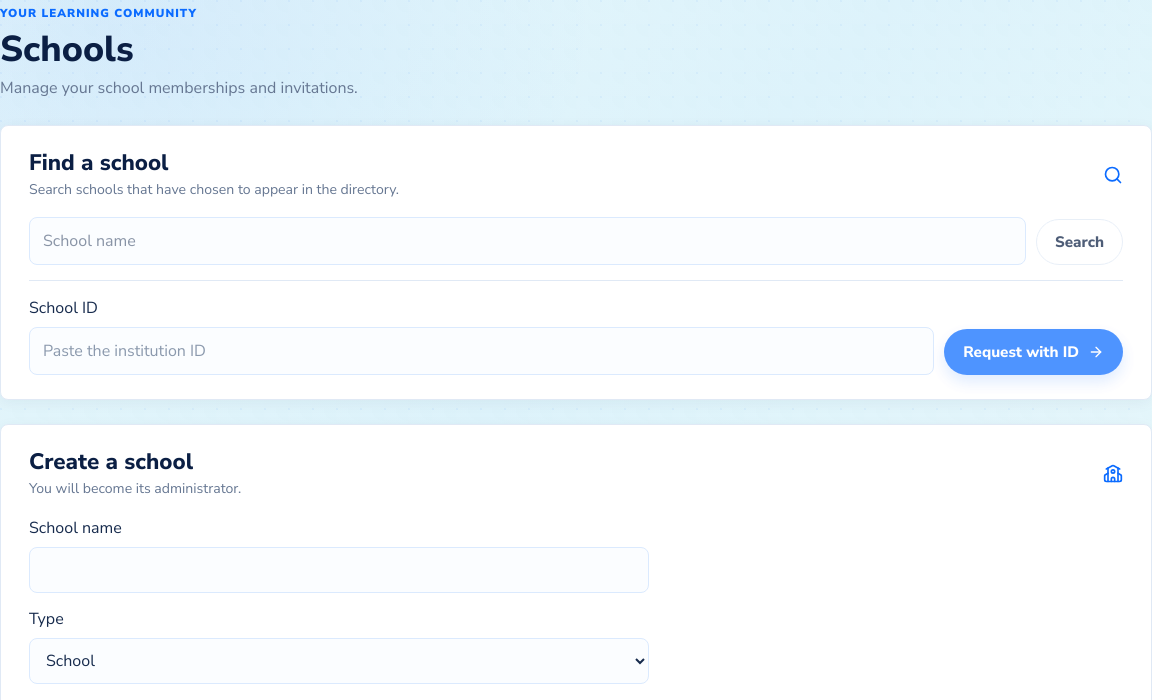
it: SchoolsPage › creates a school with opt-in listing and confirms the caller is its administrator
Type "Northside School" into the field labelled "School name" below "You will become its administrator." at (339, 570), box [29,548,649,594]
(page scrolled)
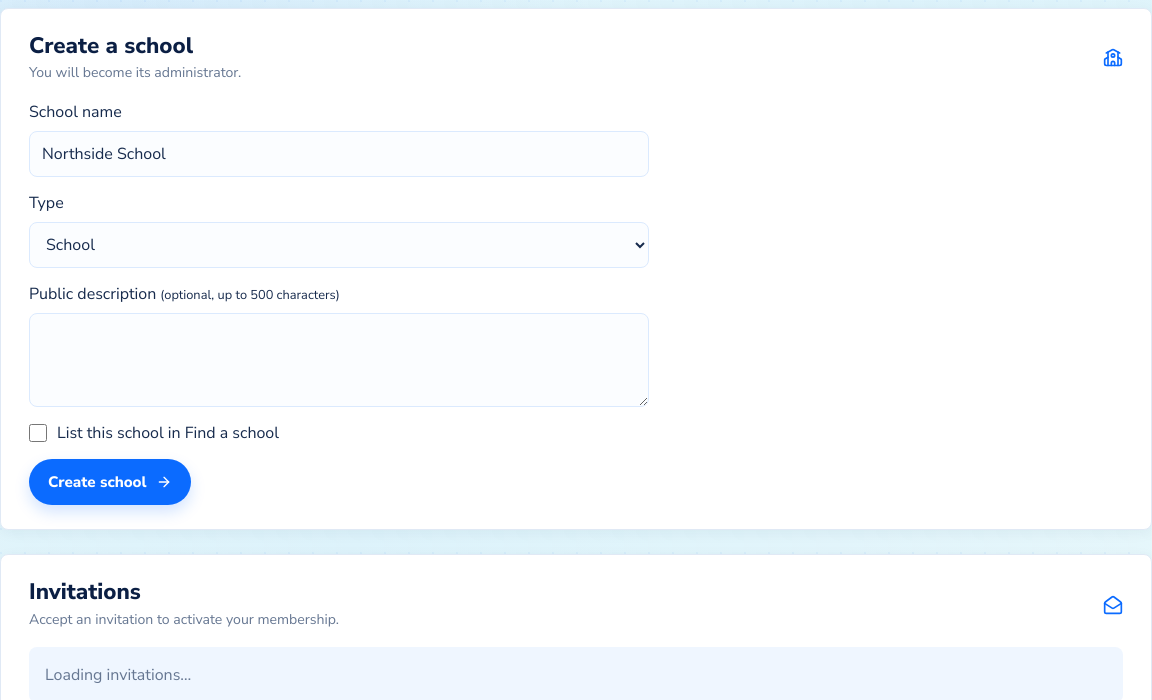
Type "Open to everyone" into the text box labelled "Public description (optional, up to 500 characters)" at (339, 360), box [29,314,649,408]
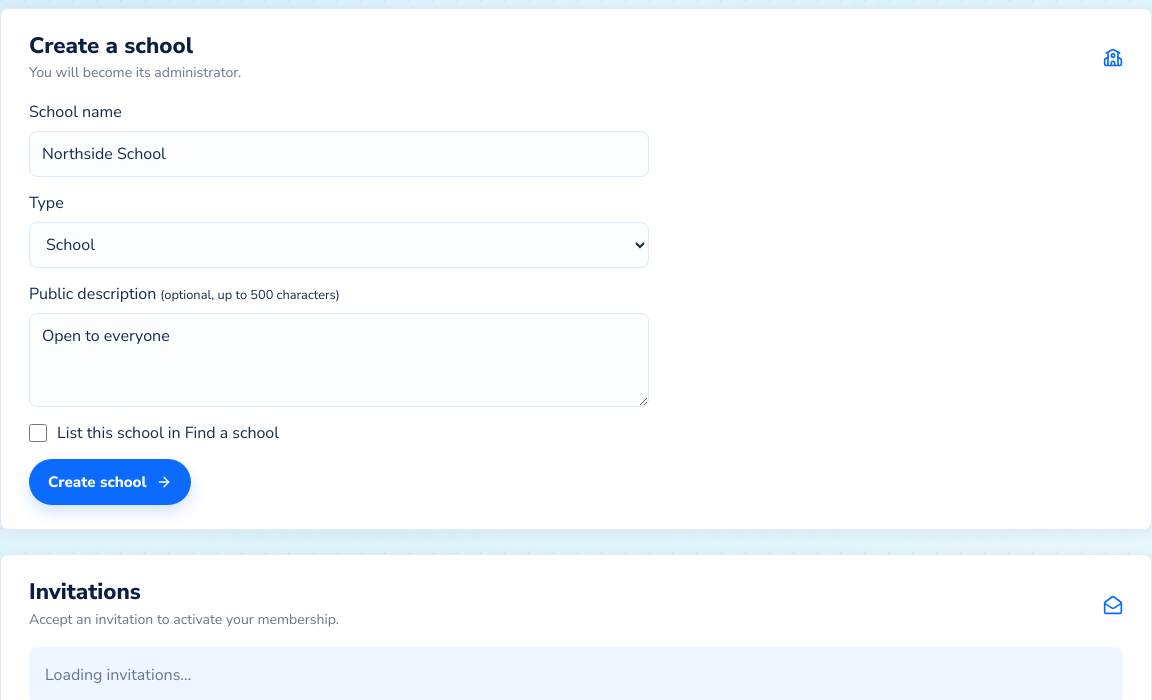
Click the checkbox labelled "List this school in Find a school" at (38, 434), box [29,424,47,442]
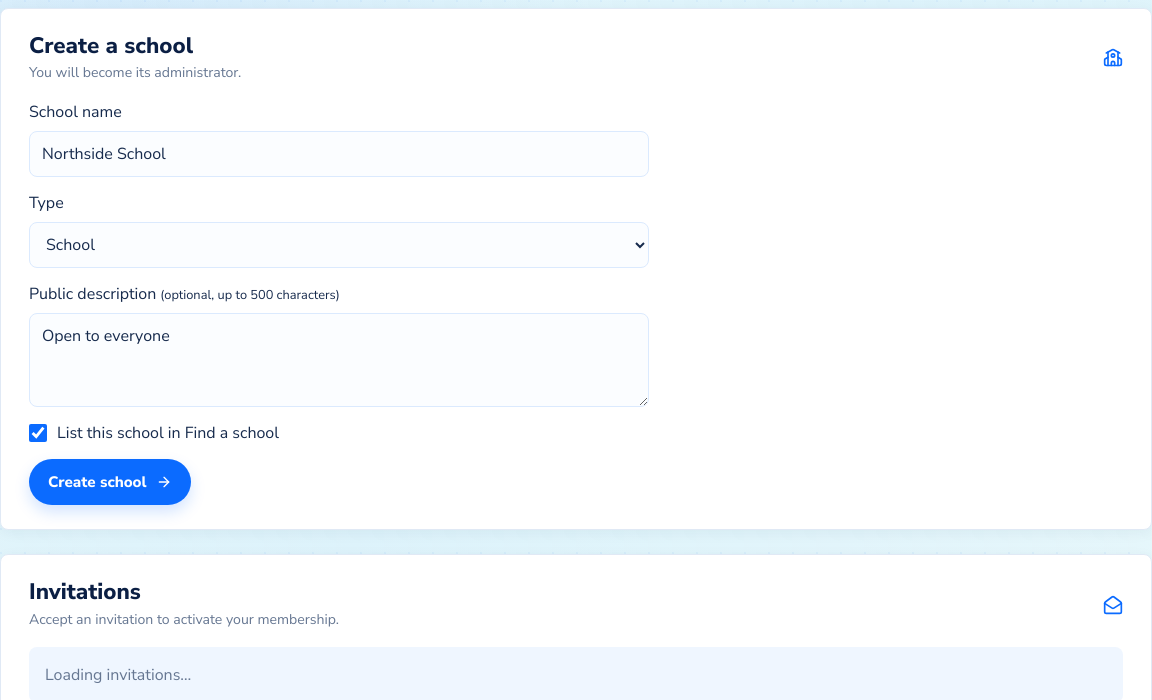
Click the button "Create school" at (110, 482), box [29,460,191,506]
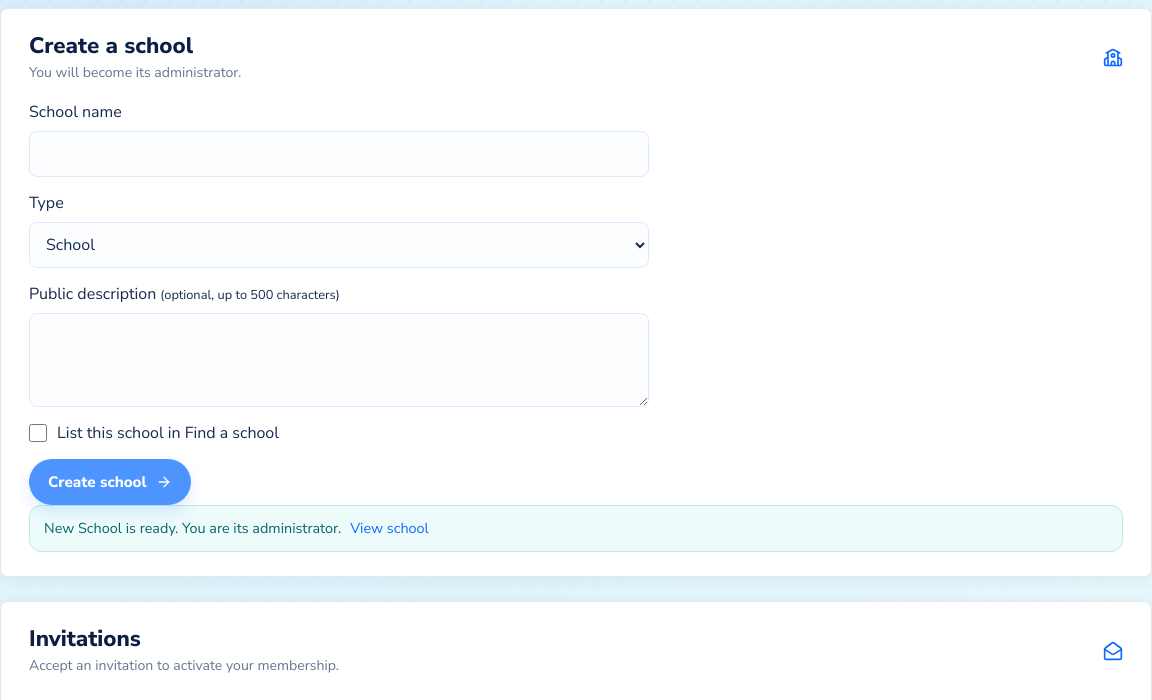
Expected: the text "New School is ready. You are its administrator. View school" is shown, [29,506,1123,552]
